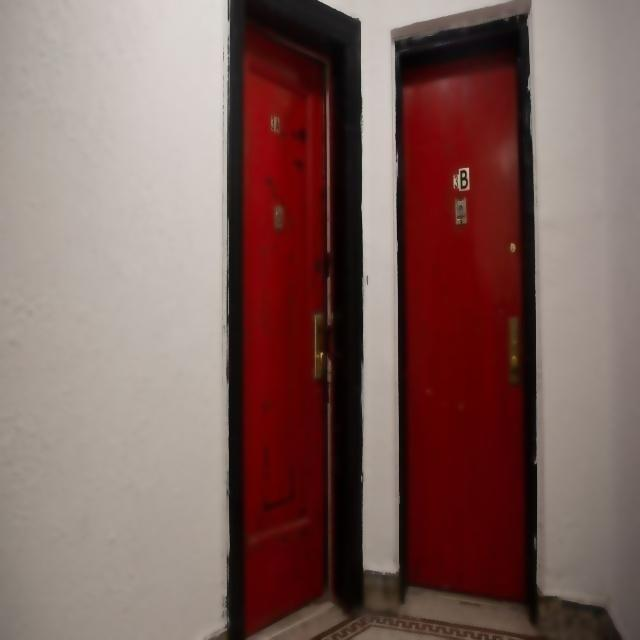door: (396, 19, 532, 608), (236, 19, 335, 637)
